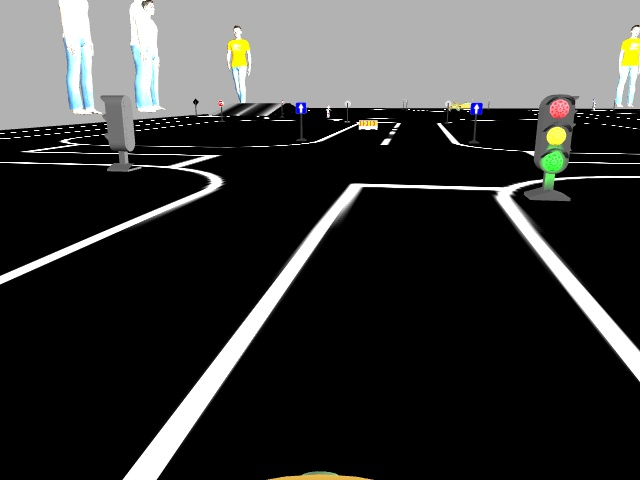ClosedRoadStand: (358, 120, 376, 129)
OneWay: (470, 102, 481, 113), (295, 102, 305, 113)
TrafficLight: (533, 95, 576, 171)
